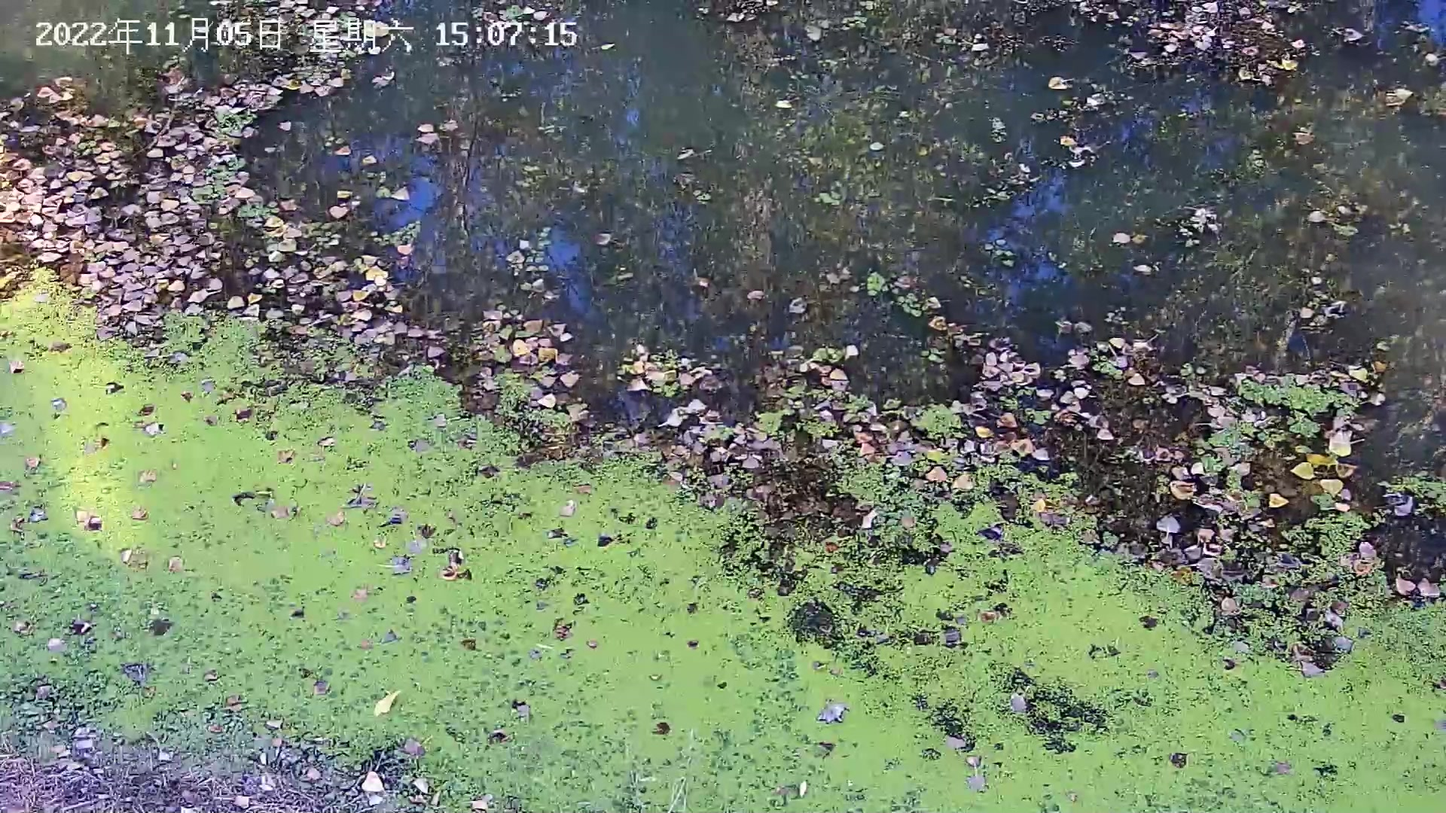floater: (1, 335, 505, 806), (496, 454, 1152, 813), (3, 2, 399, 330), (622, 340, 1204, 482), (1157, 577, 1443, 813), (1146, 359, 1443, 577), (470, 297, 575, 366)
